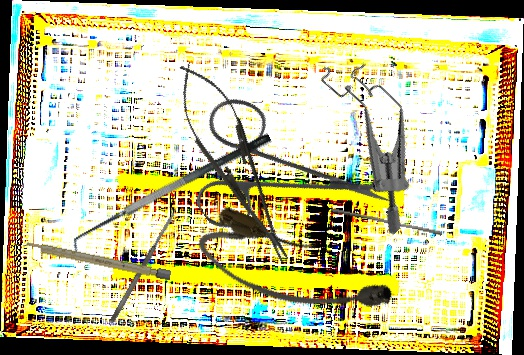Cannula: (189, 201, 401, 342)
Iris Scissors: (156, 51, 395, 292)
Needle Holder: (160, 53, 308, 273)
Pusher: (330, 208, 443, 236)
Scalpel Handle: (22, 239, 172, 281)
Spatula Surgical: (63, 131, 281, 258), (107, 210, 179, 325)
Speculum: (274, 45, 465, 237)
